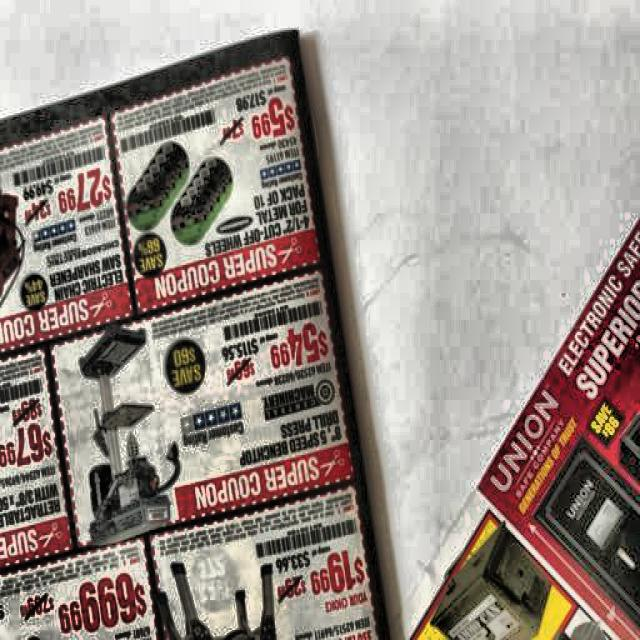paper: (1, 23, 375, 640), (426, 218, 640, 640)
